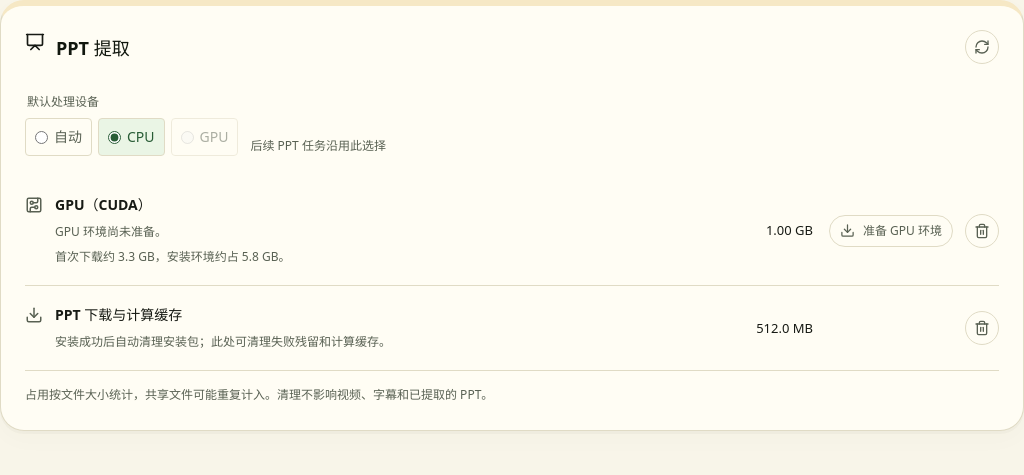
keeps the previous saved device if persistence fails
Click the radio button labelled "自动". click: (42, 137)
box: [35,131,48,144]
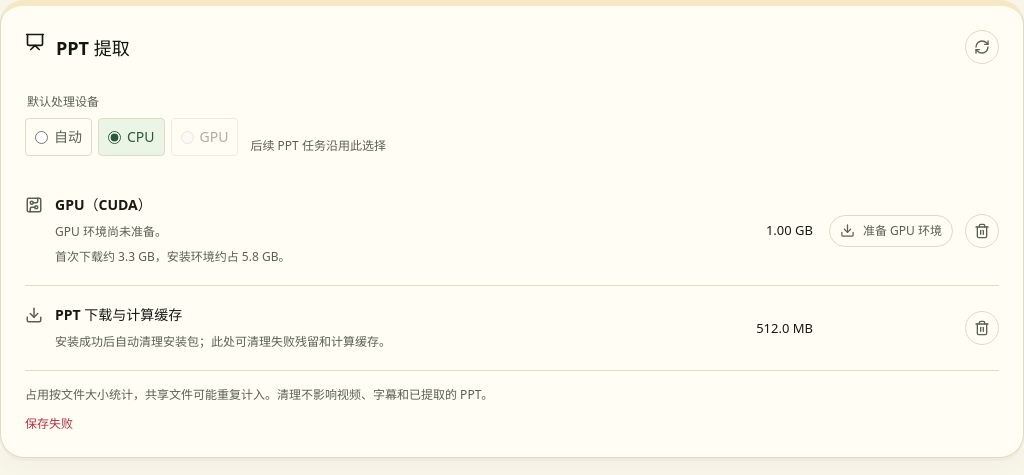
Check: the text "保存失败" is shown, box [25,414,73,432]
